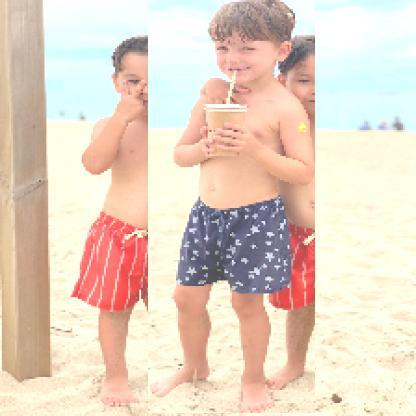child: (149, 1, 317, 415), (70, 37, 198, 409)
